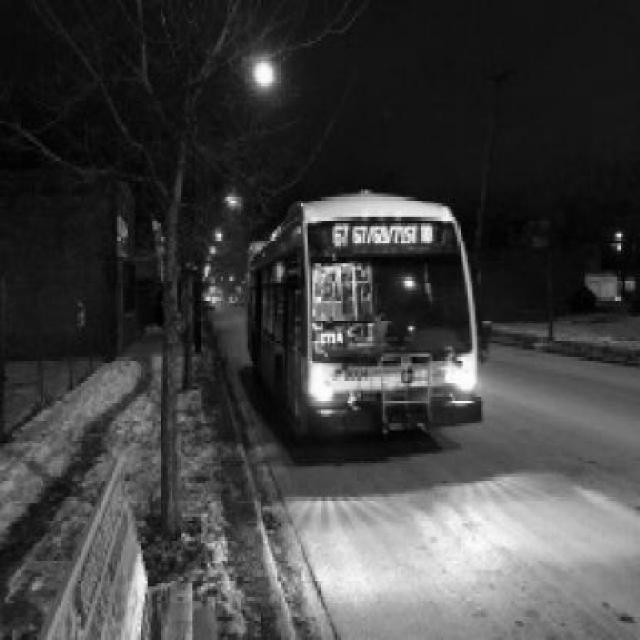Bus: (248, 195, 485, 443)
